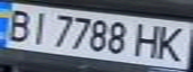7: (48, 11, 75, 48), (66, 15, 93, 52)
8: (106, 19, 133, 56), (87, 16, 112, 53)
B: (0, 6, 36, 43)
H: (130, 20, 166, 60)
I: (24, 9, 54, 45)
K: (151, 24, 190, 63)
